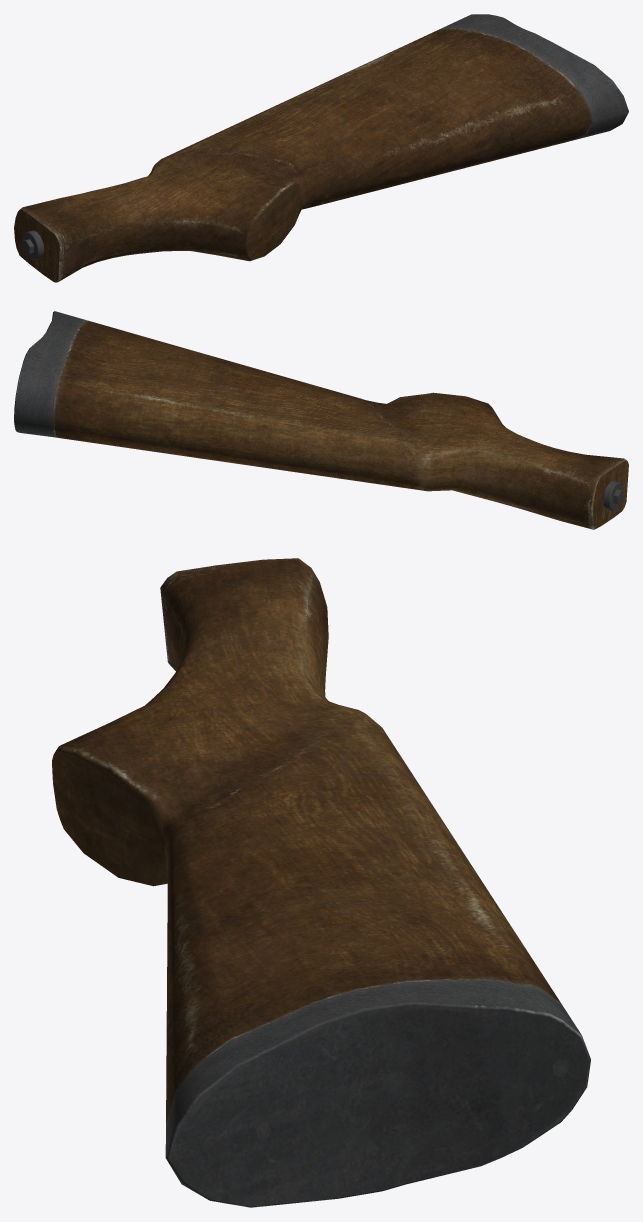
Rendered from sm71_908_shotgunpartsstock.fbx.
3 views of the same model, one above another, from view 1: azimuth 30°, elevation 25°; view 2: azimuth 150°, elevation 25°; view 3: azimuth 270°, elevation 25° (orthographic). The views are drawn at different scales.
Visible parts, largest first — view 1: LOD_1_Group_0_Sub_1__sm71_100_ShotgunParts01A_Mat; view 2: LOD_1_Group_0_Sub_1__sm71_100_ShotgunParts01A_Mat; view 3: LOD_1_Group_0_Sub_1__sm71_100_ShotgunParts01A_Mat.
Boxes of the visible parts, <box> form: LOD_1_Group_0_Sub_1__sm71_100_ShotgunParts01A_Mat: <box>14,14,628,282</box>; LOD_1_Group_0_Sub_1__sm71_100_ShotgunParts01A_Mat: <box>14,311,628,529</box>; LOD_1_Group_0_Sub_1__sm71_100_ShotgunParts01A_Mat: <box>52,558,590,1207</box>.
Size of the model in its own units: 0.4008 by 0.0598 by 0.1601.
